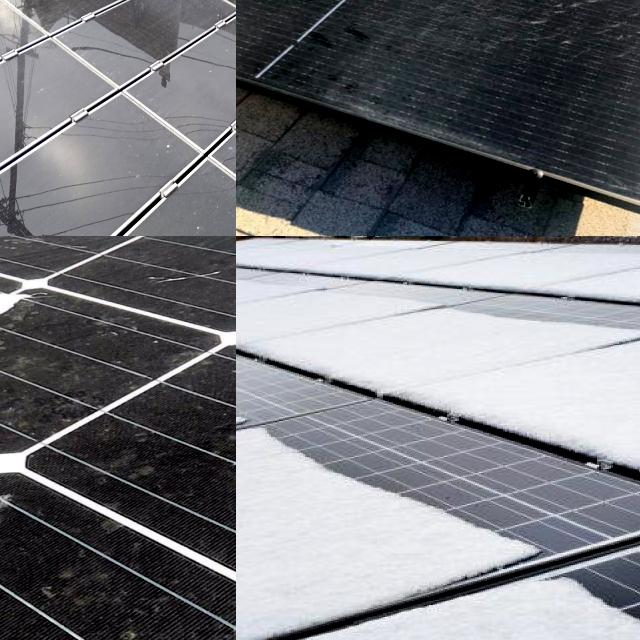bird: (0, 278, 52, 372)
dust: (39, 115, 174, 236), (281, 0, 427, 104), (441, 0, 640, 76), (489, 100, 640, 200), (236, 0, 368, 41), (480, 0, 640, 33), (96, 0, 172, 51)
panel: (353, 322, 528, 455), (426, 496, 598, 601), (236, 586, 477, 640), (366, 240, 518, 323), (511, 266, 640, 346), (542, 404, 640, 505), (301, 458, 450, 520), (236, 316, 341, 394), (236, 389, 318, 482), (278, 240, 384, 306), (547, 570, 640, 640), (381, 236, 549, 265), (573, 236, 640, 275), (236, 240, 281, 284)
